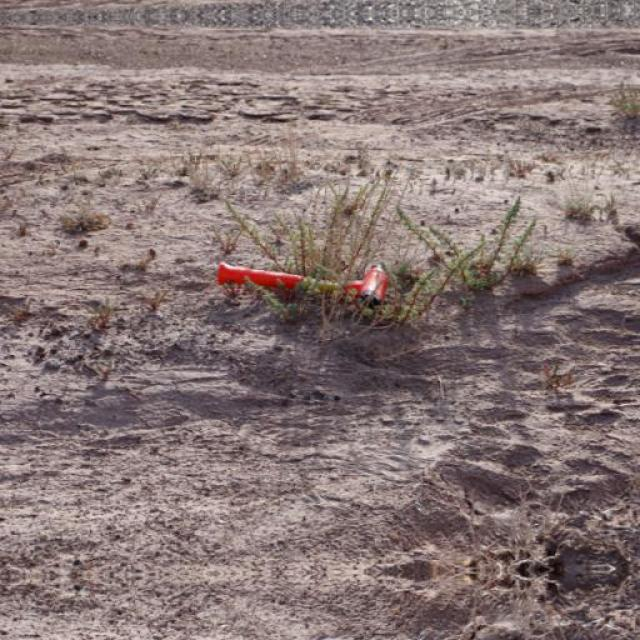mallet: (216, 259, 392, 309)
